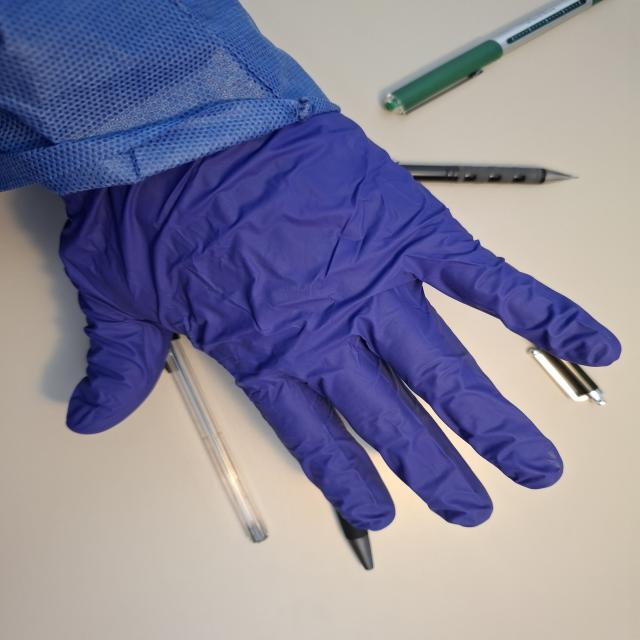glove_on: (52, 107, 626, 534)
